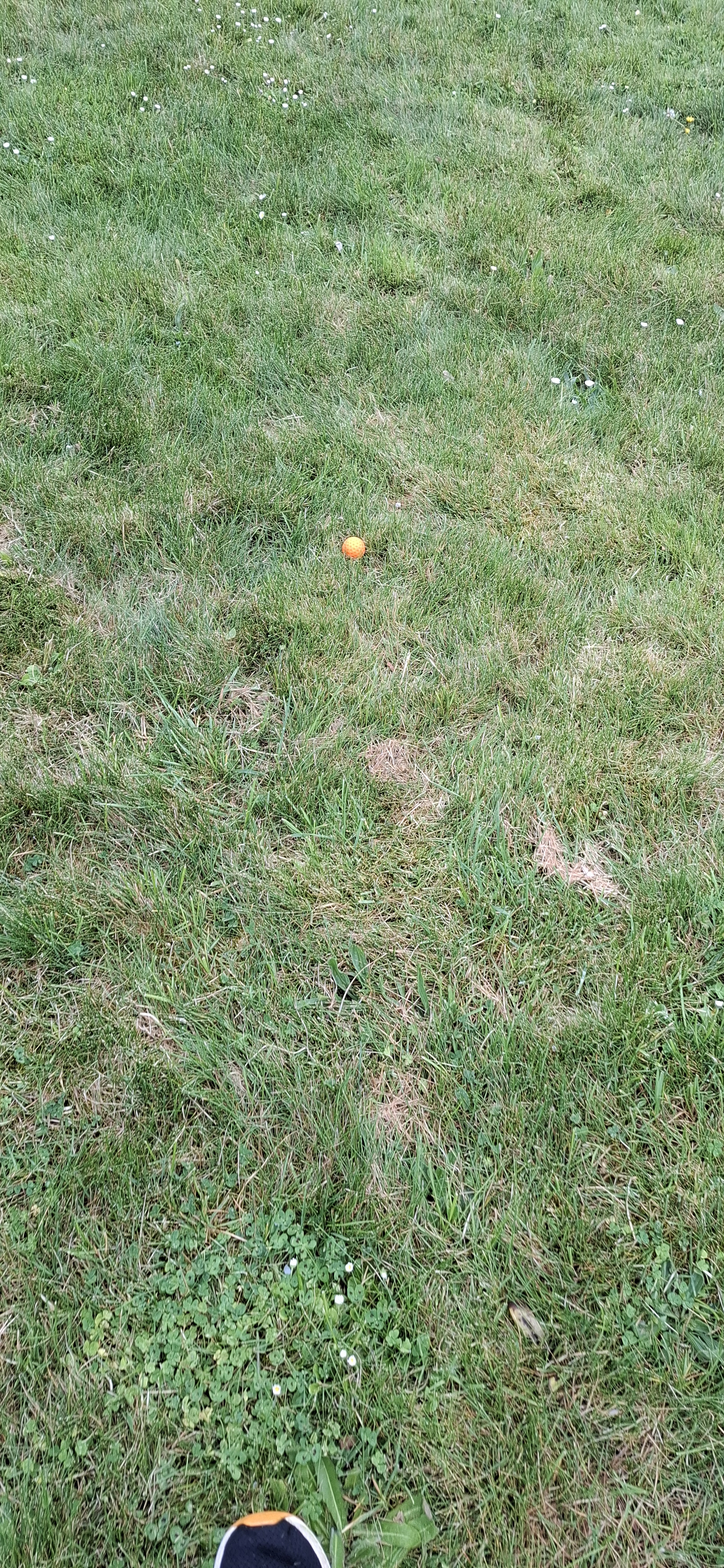ball: (248, 777, 259, 828)
